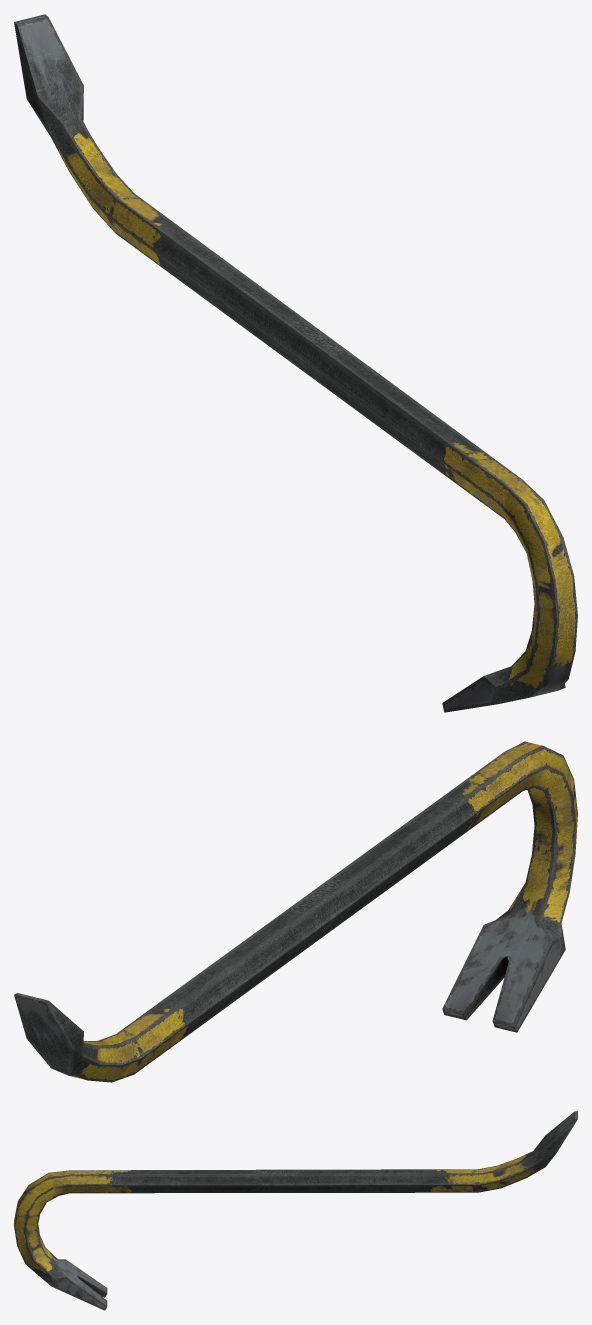
Rendered from crow3_black.glb.
The picture shows the model from 3 angles, top to bottom: view 1: azimuth 30°, elevation 25°; view 2: azimuth 150°, elevation 25°; view 3: azimuth 270°, elevation 25°; orthographic projection. The views are drawn at different scales.
Parts seen in each view (by area): view 1: body; view 2: body; view 3: body.
Part boxes in pixels (x1=…): body: x1=14, y1=14, x2=577, y2=712; body: x1=14, y1=741, x2=577, y2=1082; body: x1=14, y1=1111, x2=577, y2=1310.
Size of the model in its own units: 0.0486 by 0.2261 by 0.62.
Materials: 1 (1 with a texture image).
